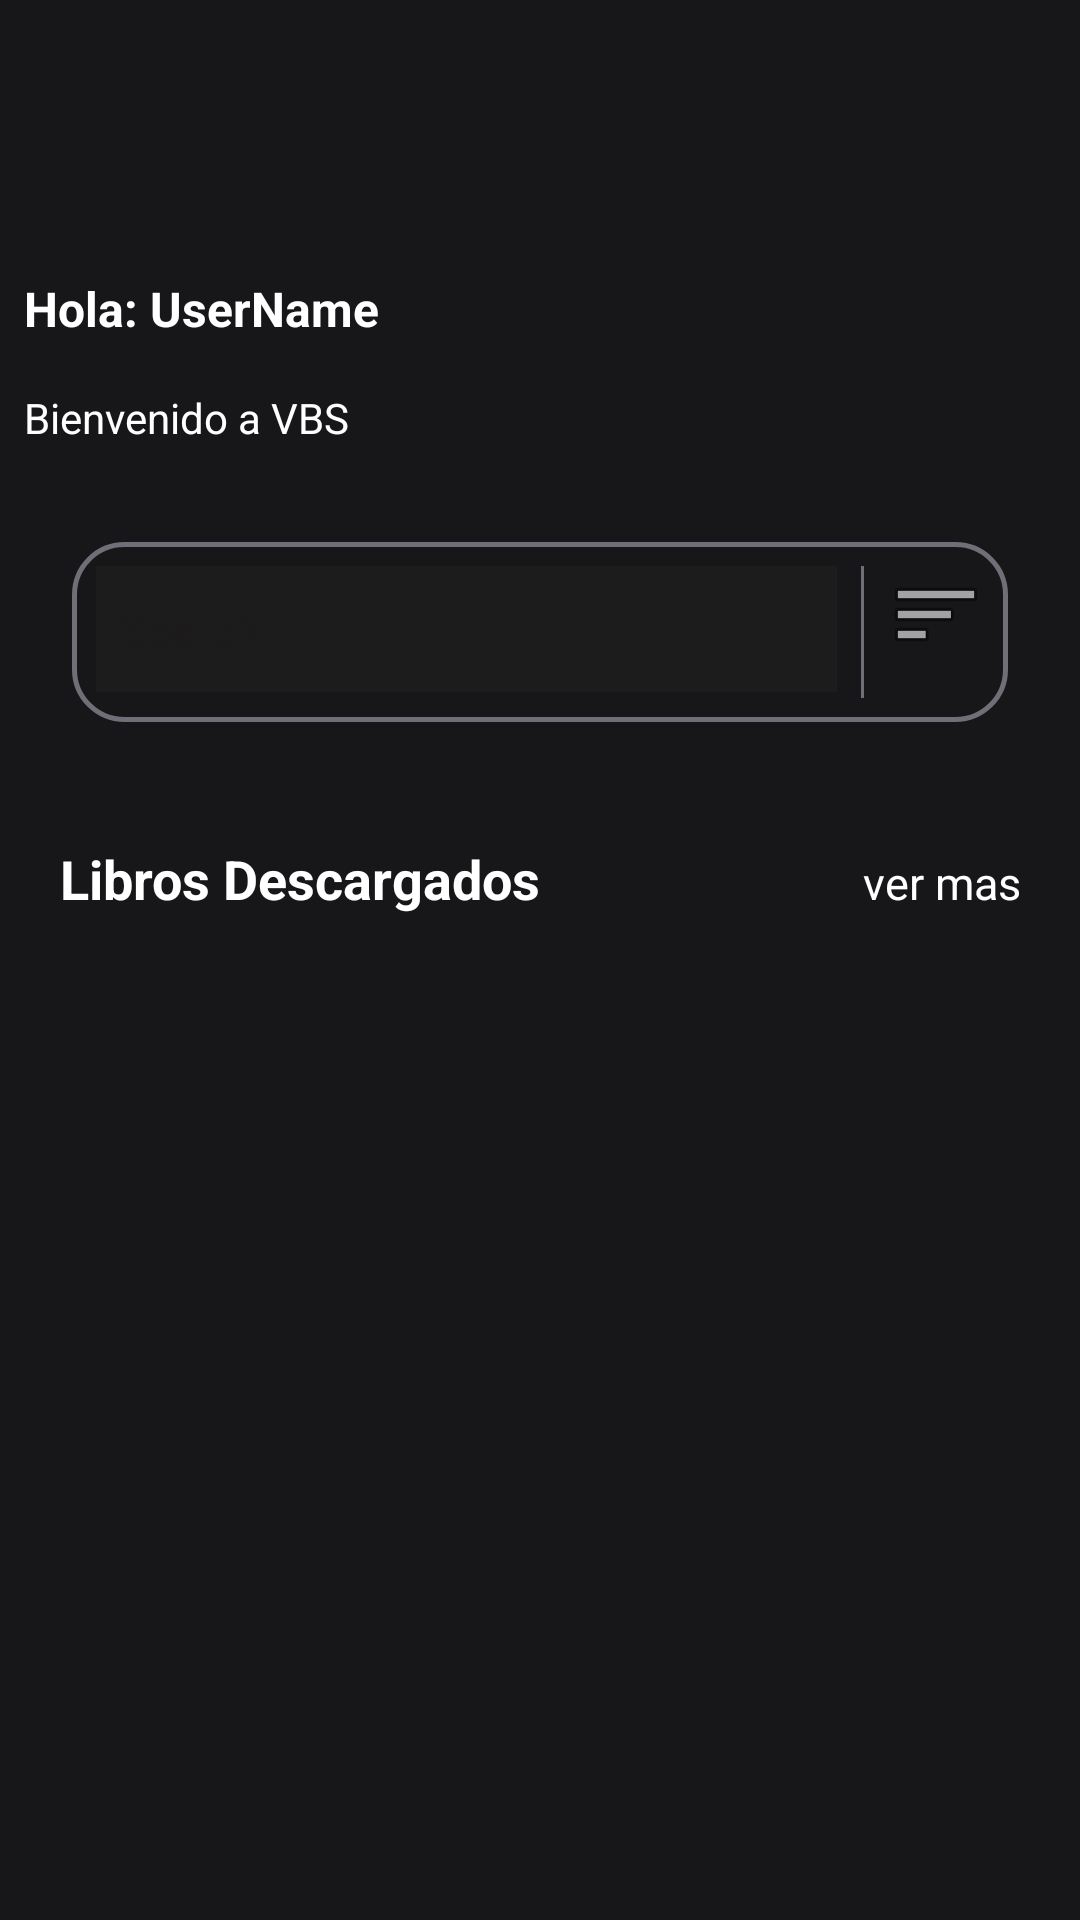

Named icons in this screenshot (1080×1920) and their centers, (x,y):
sort by size: (936,614)
